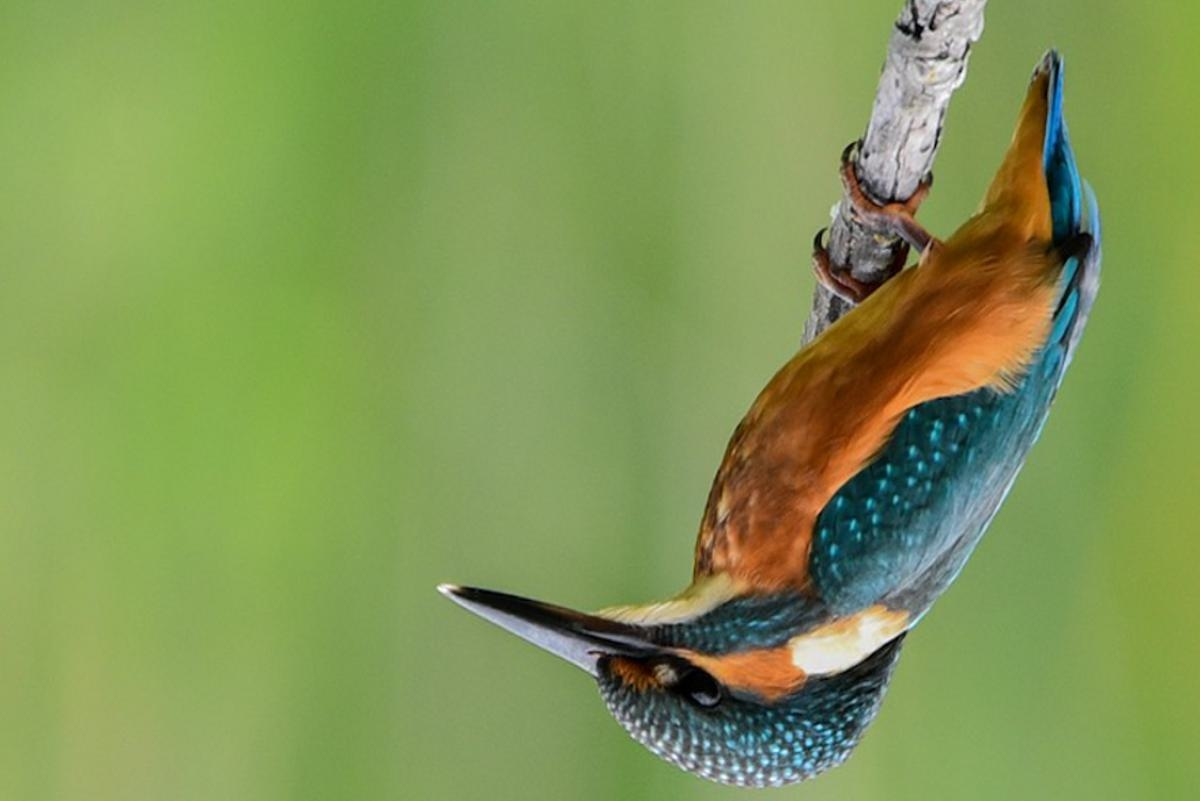kingfisher: (427, 55, 1132, 783)
